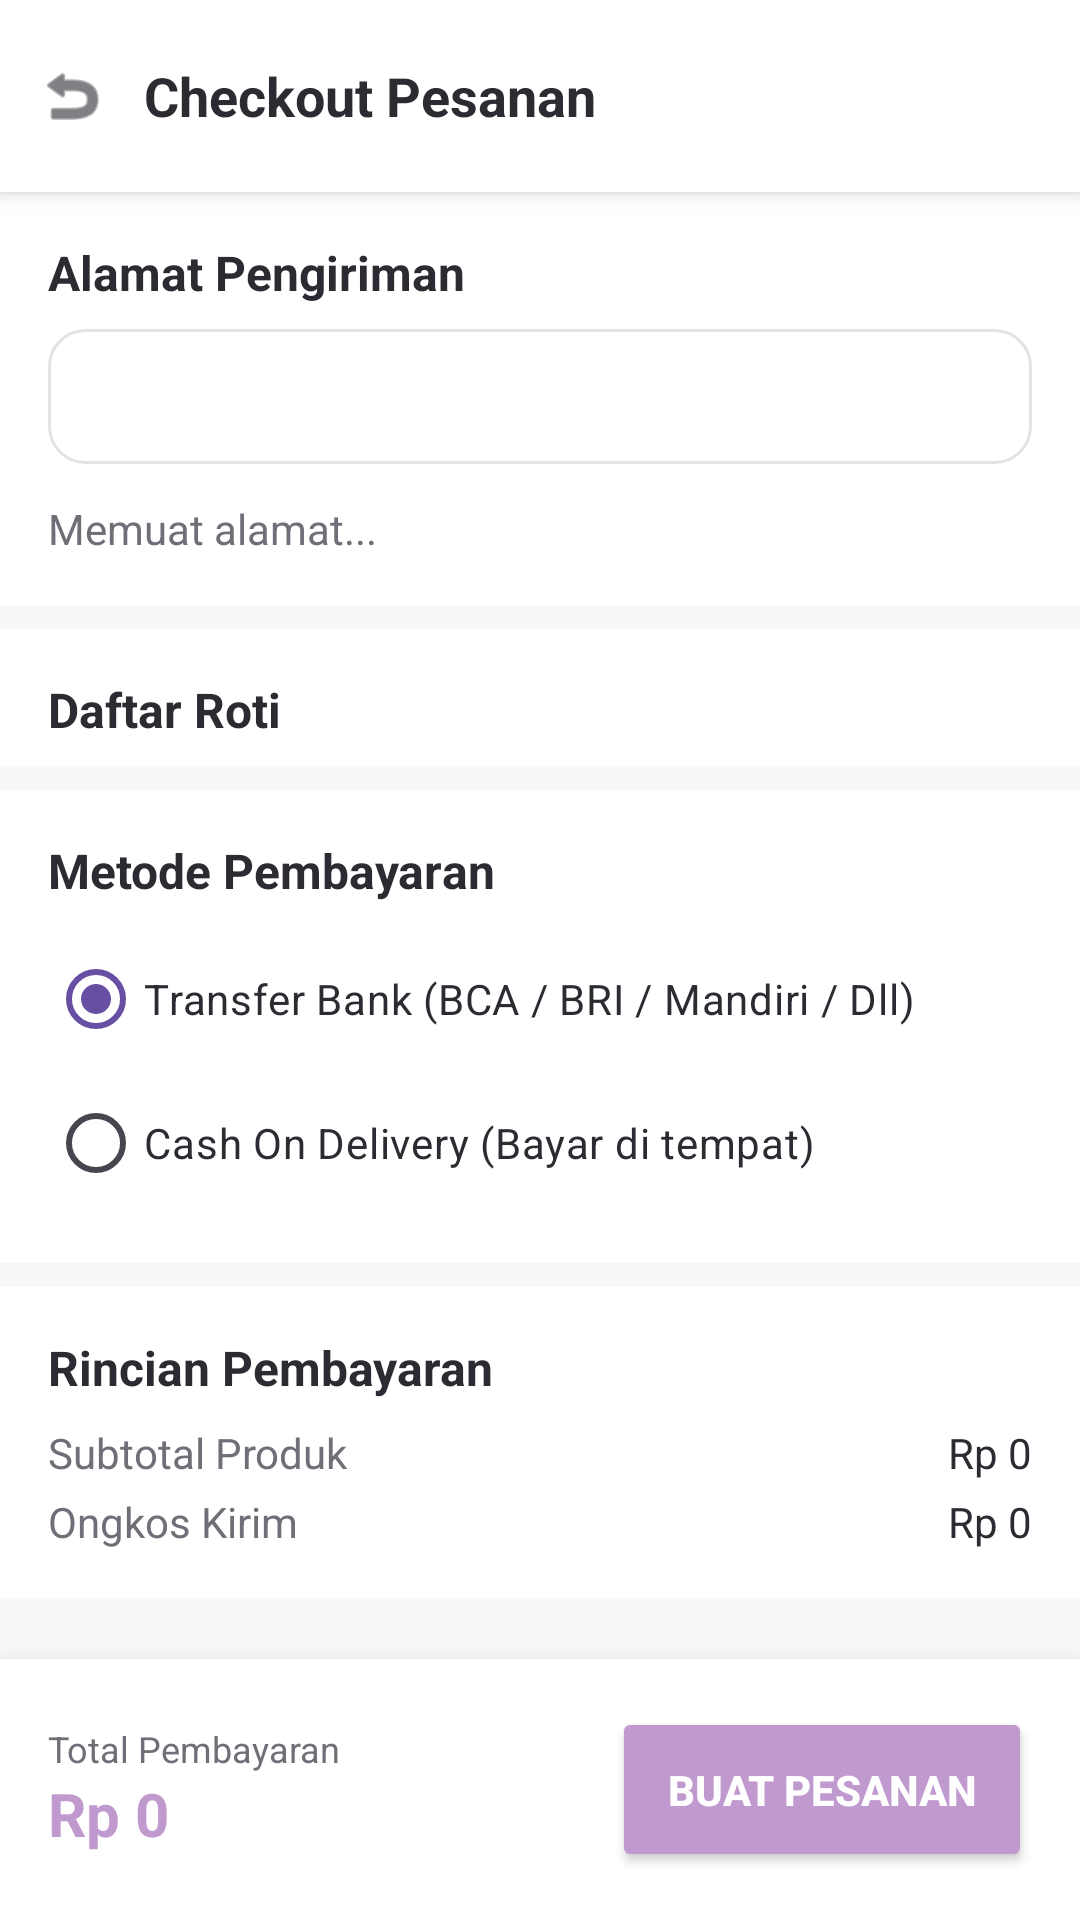

Screen size 1080×1920. Icon name, then its center in pixels as (x=x, y=y):
revert: (x=73, y=96)
